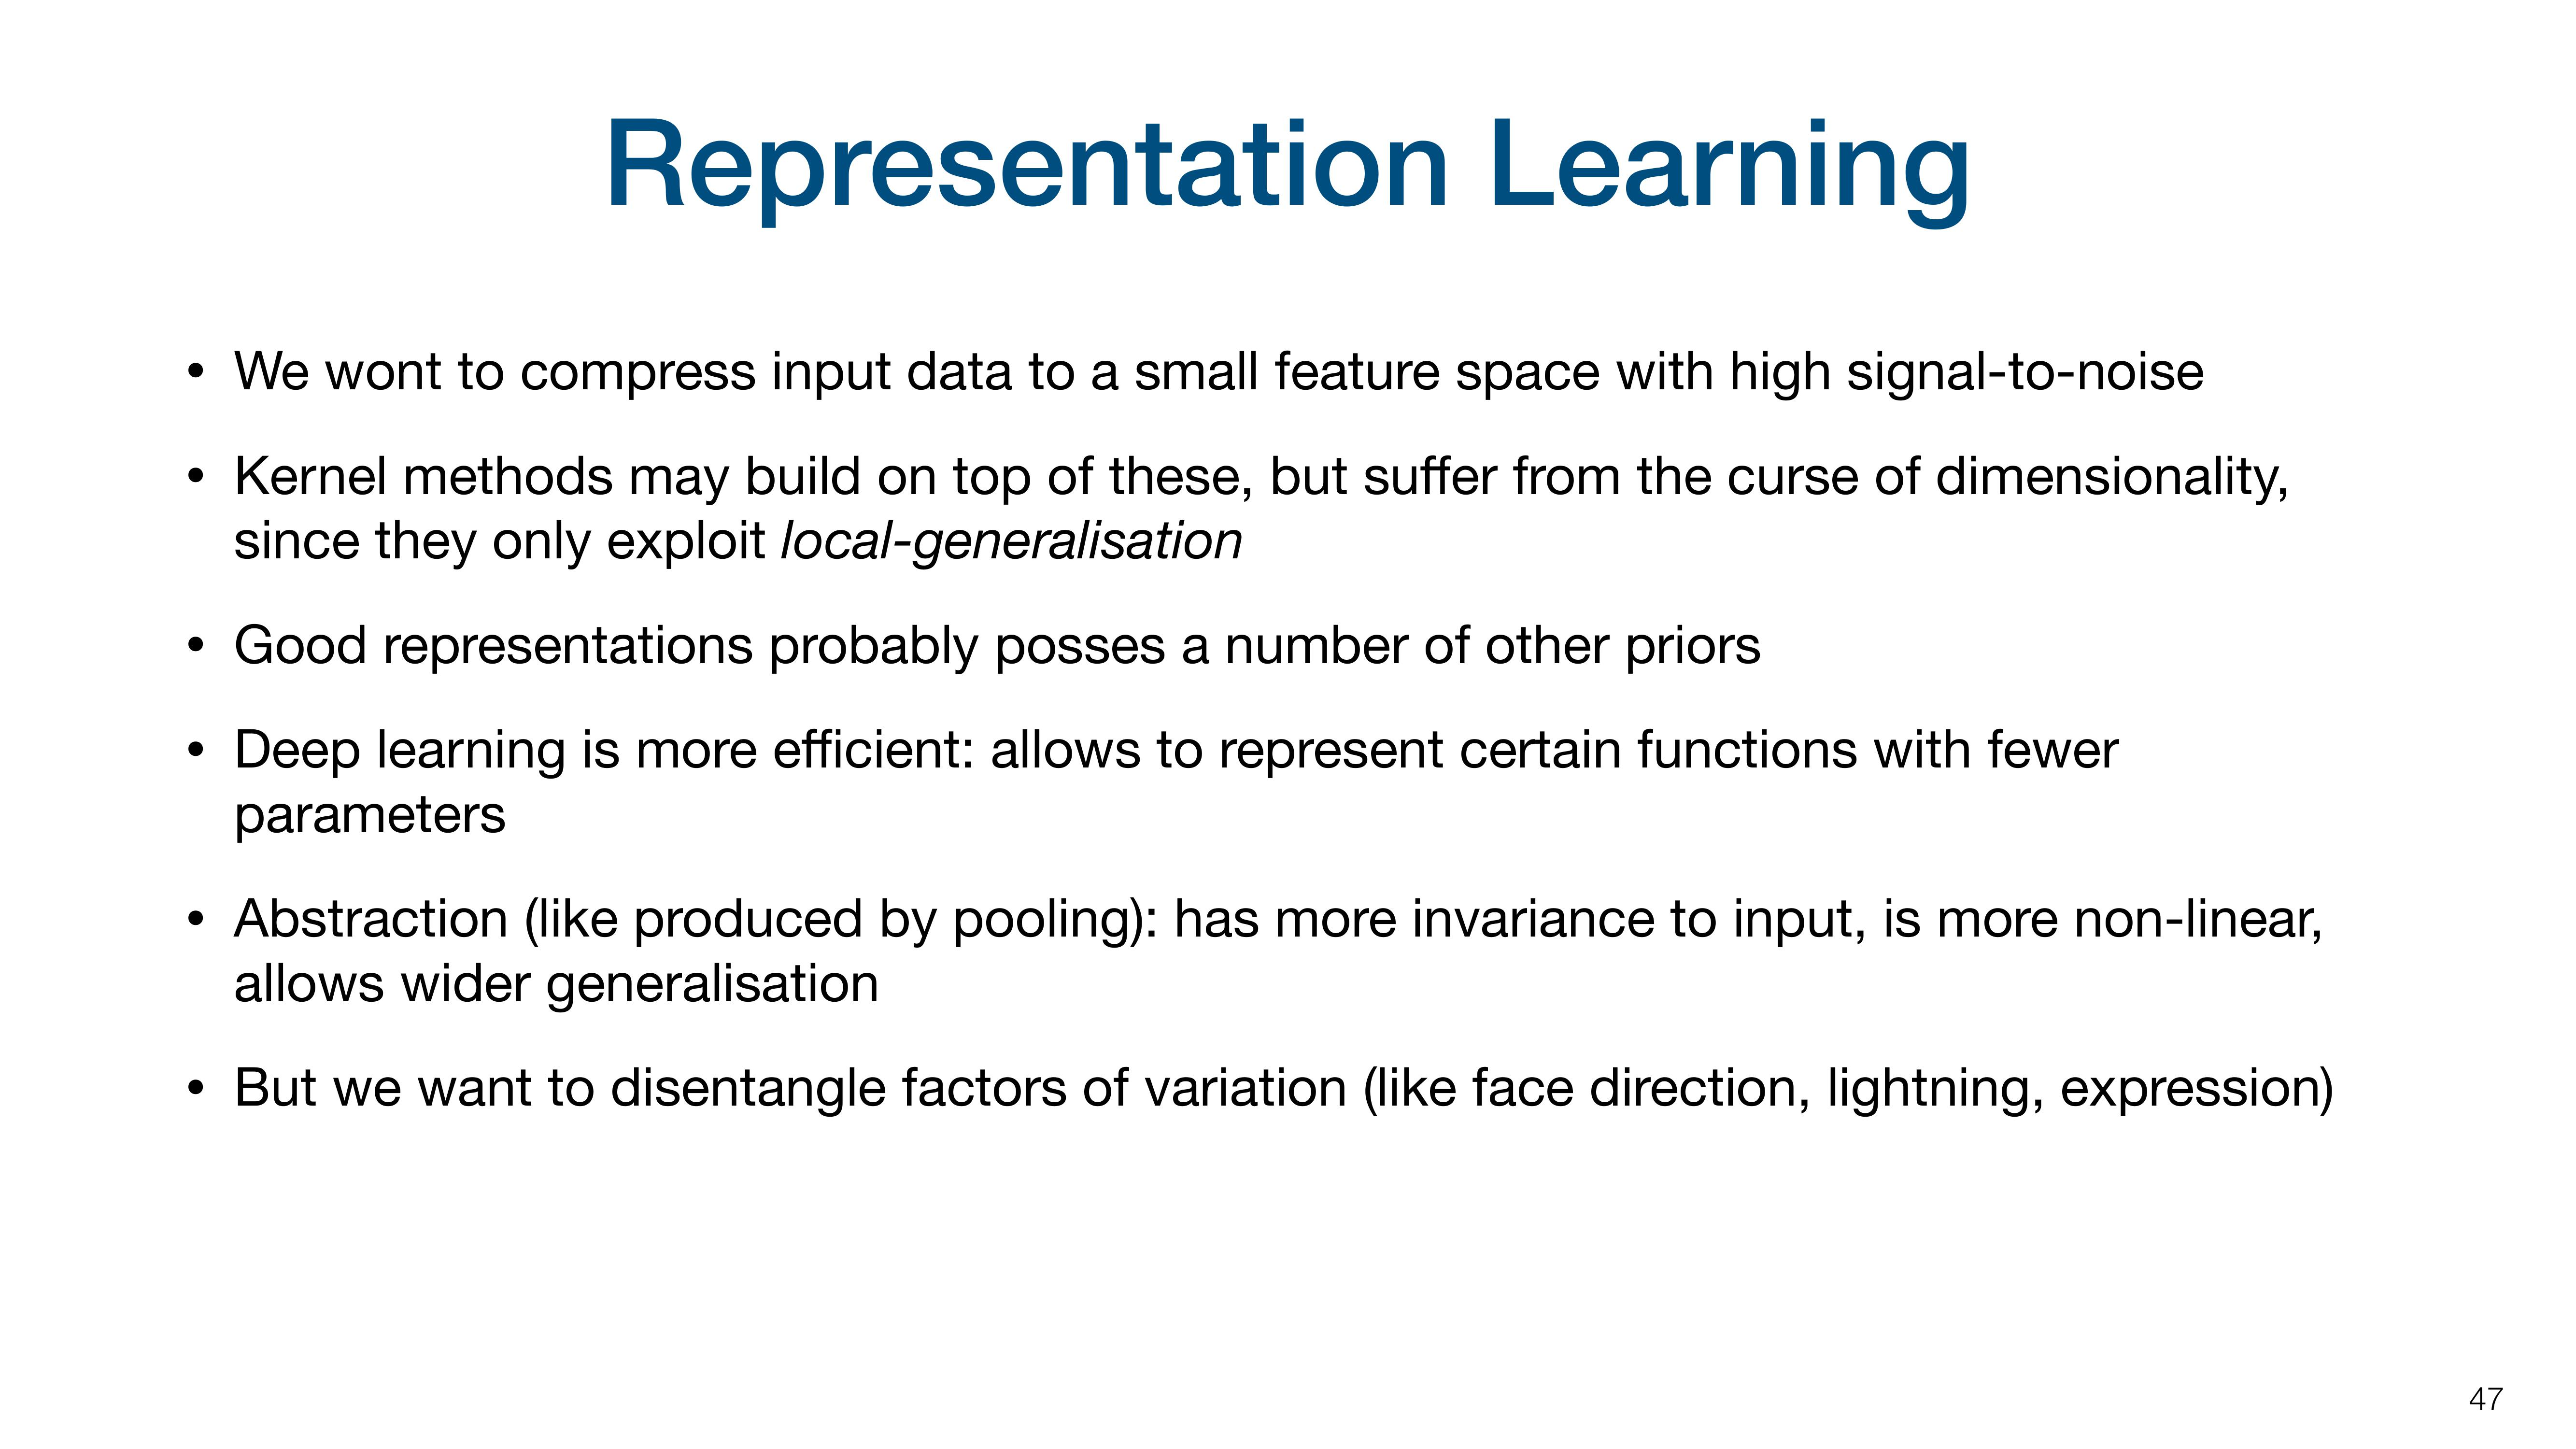Title: (579, 99, 1987, 242)
